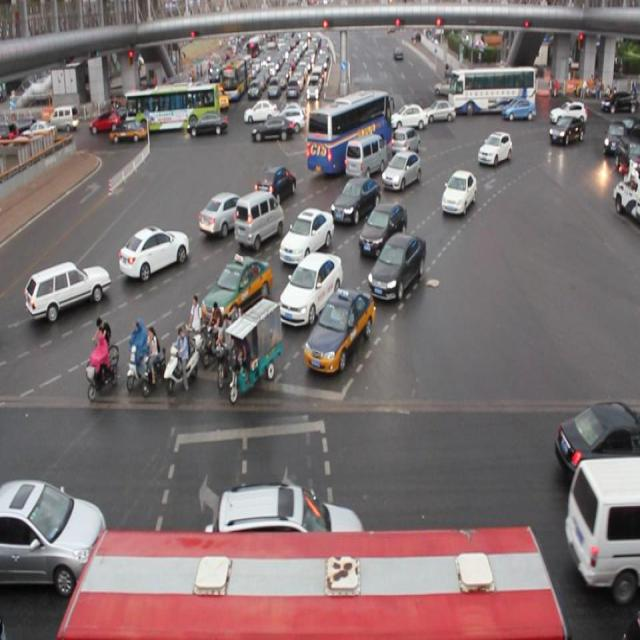car: (0, 476, 104, 592), (211, 481, 364, 556), (554, 399, 640, 482), (302, 288, 374, 376), (200, 252, 273, 337), (25, 261, 109, 323), (278, 250, 343, 326), (366, 230, 426, 302), (119, 226, 190, 278), (279, 209, 334, 264), (358, 202, 407, 254), (199, 190, 254, 232), (331, 177, 380, 224), (253, 166, 297, 205), (440, 170, 476, 216), (380, 150, 421, 190), (547, 115, 585, 147), (476, 130, 511, 163), (391, 128, 421, 155)
truck: (561, 458, 640, 598), (234, 190, 285, 250), (339, 138, 382, 184)
van: (59, 524, 569, 640), (307, 90, 393, 174)
